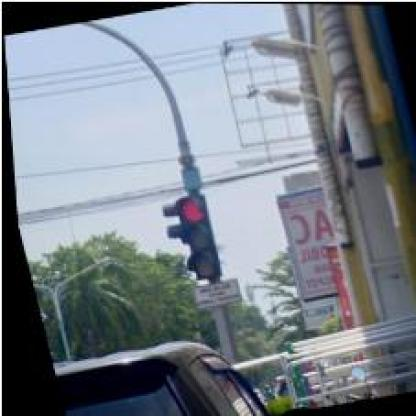red: (167, 194, 218, 280)
